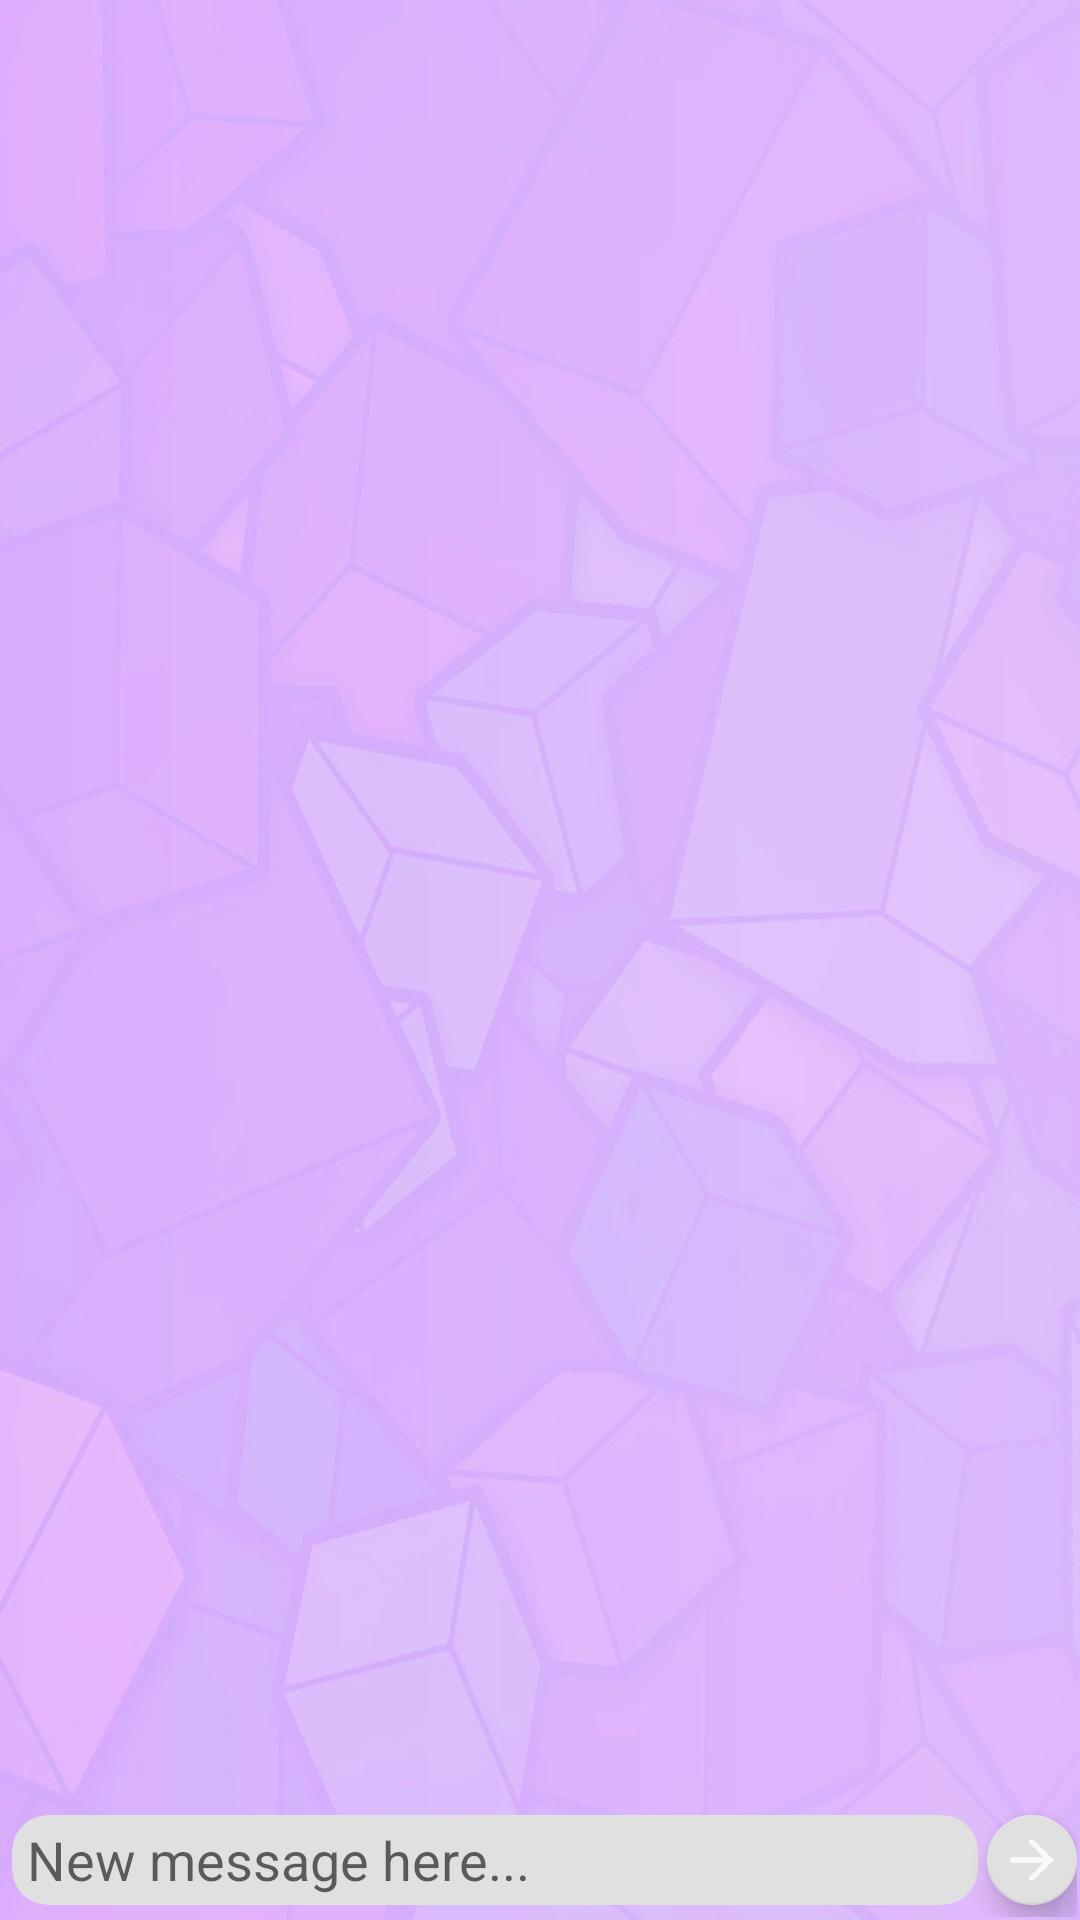

Screen size 1080w x 1920h. Icon name, then its center in pixels as (x=x, y=y):
send: (x=1032, y=1860)
